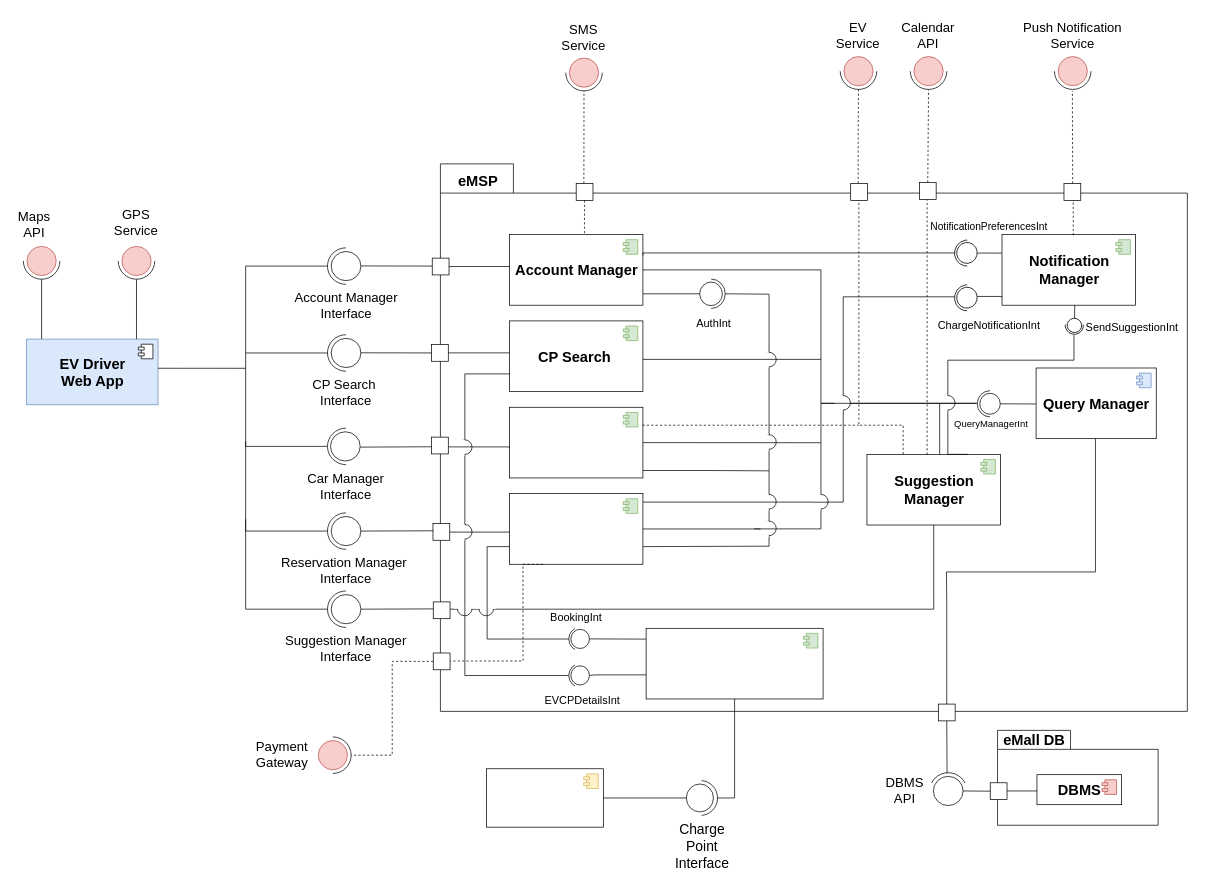
The diagram is 1207 pixels wide and 885 high, and some of its shapes have lost their labels. The centre of each missing label's shape, as x and y in pixels:
"Car Manager" belongs at point 576,442.
"CPMS" belongs at point 544,797.
"eMSPtoCPMSConnector" belongs at point 734,663.
"Reservation Manager" belongs at point 576,528.
